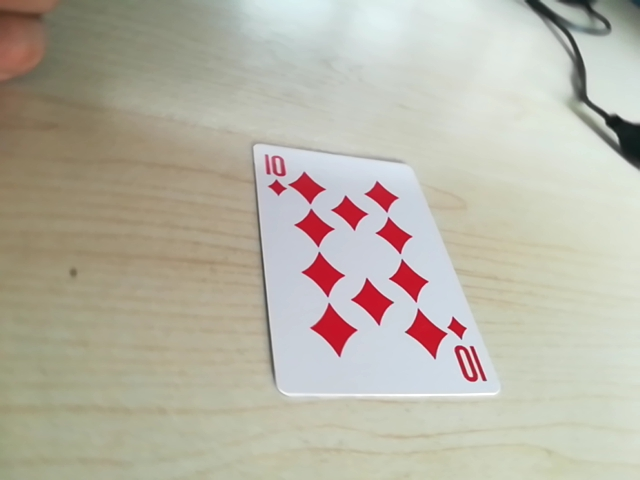fk 10: (448, 315, 485, 390), (258, 147, 297, 203)
